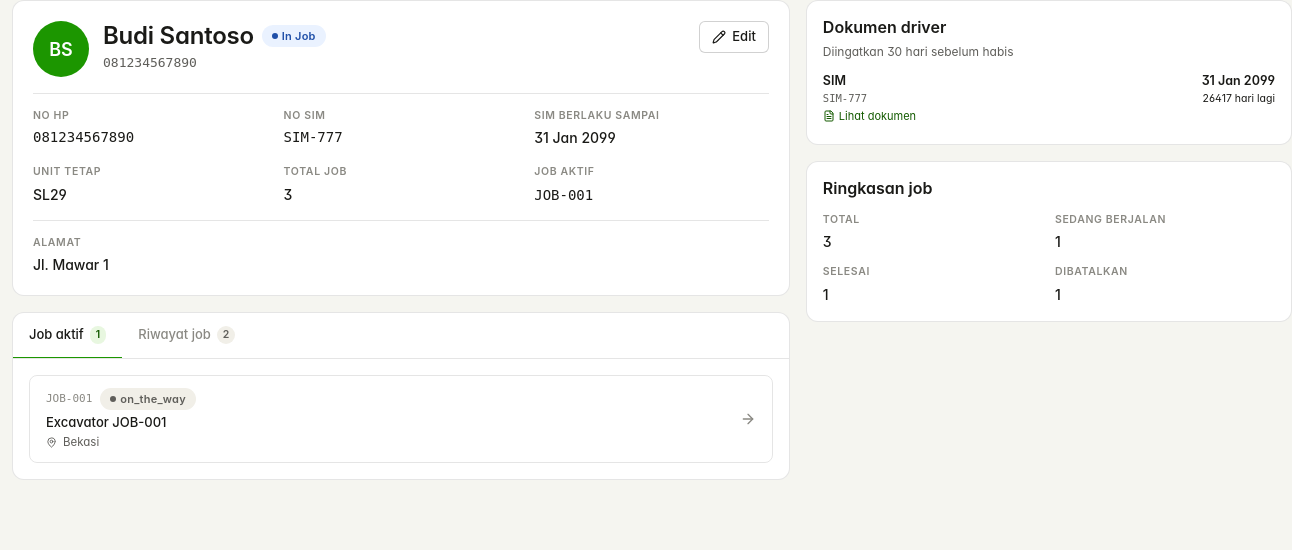
Scenario: DriverDetailView › job aktif tampil lebih dulu; riwayat berisi job selesai & batal
Expected: the text "Excavator JOB-001" is shown, [46,414,166,430]
Click the button "Riwayat job 2". click: point(187, 336)
box: [122,313,251,359]
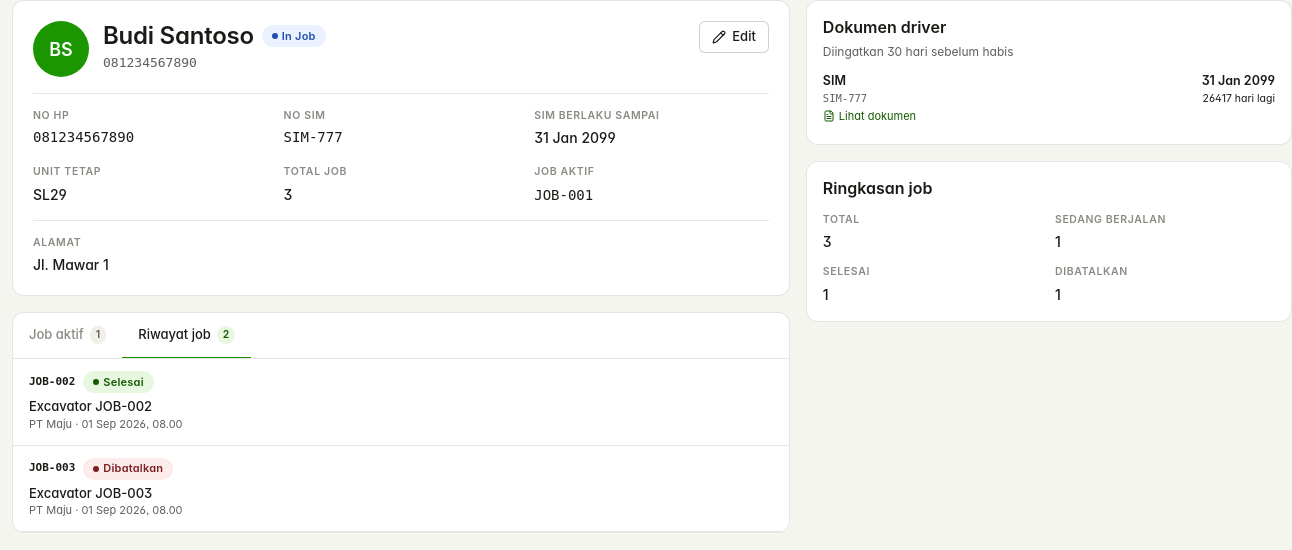
Now the text "Excavator JOB-002" is shown, box [29,398,152,414]
Now the text "Excavator JOB-003" is shown, box [29,485,152,501]
Now the link "Excavator JOB-001" is gone
